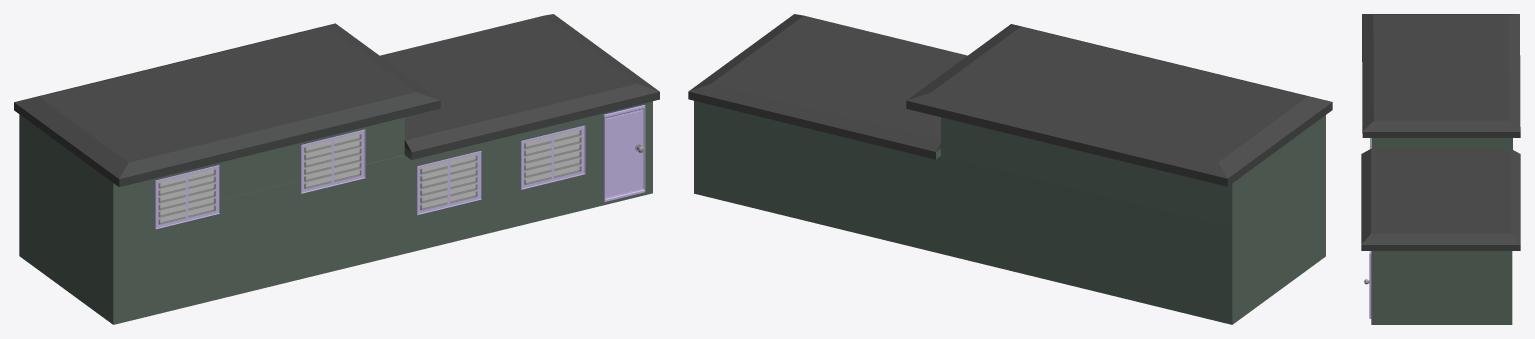
The model's file is building3.fbx.
3 renders of one model, left to right at view 1: azimuth 30°, elevation 25°; view 2: azimuth 150°, elevation 25°; view 3: azimuth 270°, elevation 25°, orthographic. The views are drawn at different scales.
Visible parts, largest first — view 1: building3, Door corners.007, Window.013, Window.016, Window.015, Window.014; view 2: building3; view 3: building3, Door corners.007.
Boxes of the visible parts, x1,y1,x2,y2 form: building3: [14, 14, 659, 324]; Door corners.007: [603, 105, 645, 201]; Window.013: [520, 125, 585, 189]; Window.016: [301, 129, 365, 193]; Window.015: [155, 165, 219, 229]; Window.014: [417, 151, 481, 214]; building3: [688, 14, 1332, 324]; building3: [1361, 14, 1520, 324]; Door corners.007: [1369, 251, 1371, 318].
Size of the model in its own units: 27.15 by 7.55 by 9.25.
5 materials, 1 textured.
